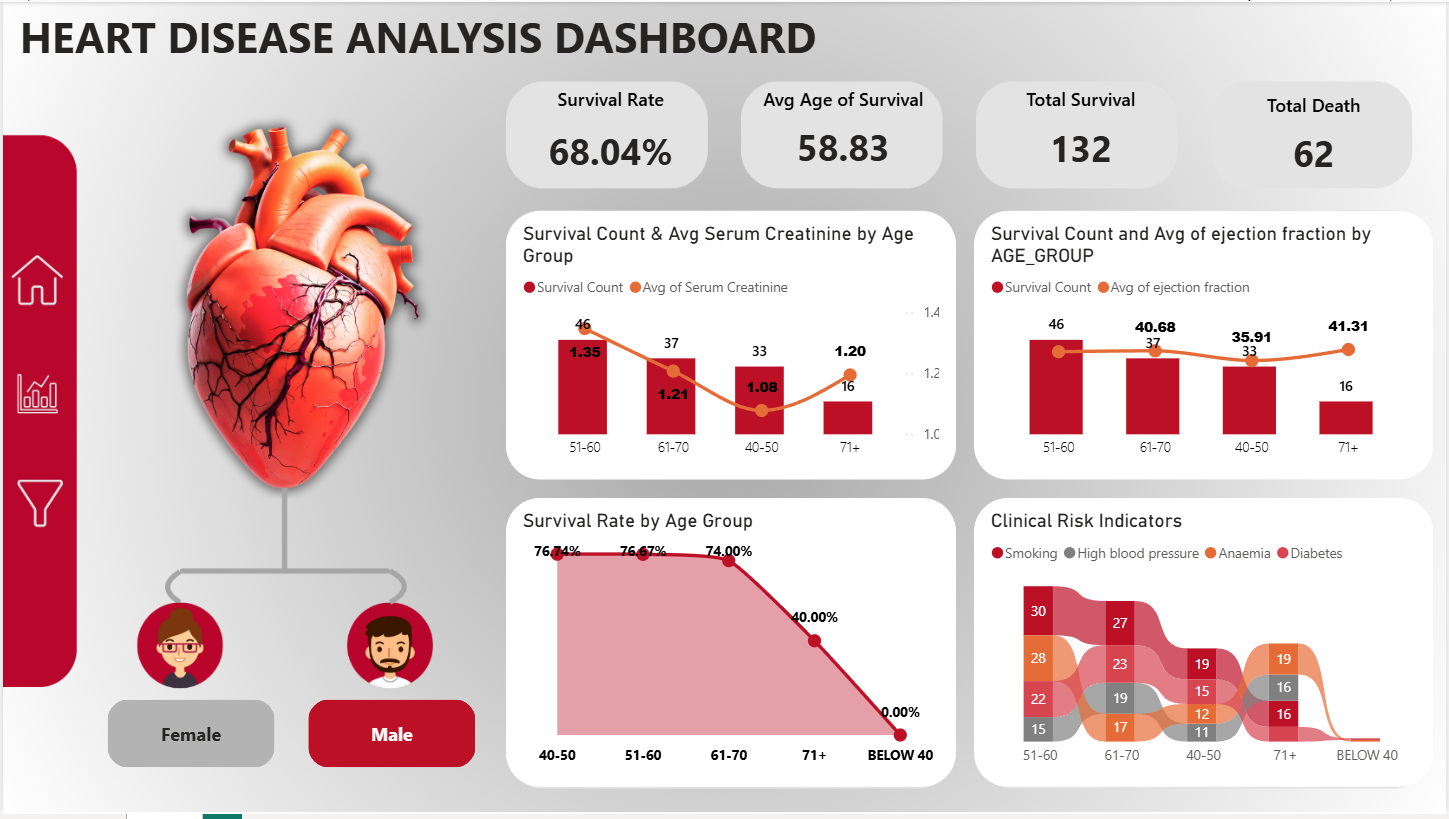

The dashboard page shown, as its layout file describes it:
{"tool":"powerbi","page":{"name":"Page 1","canvas":[1280,720],"ordinal":0},"visuals":[{"type":"textbox","box":[10,0,727,62],"z":0},{"type":"card","title":"Survival Rate","fields":{"Values":["heart_Disease_clinical_records_.Survival_Rate"]},"box":[453.5,75.6,171.3,97.8],"z":1000},{"type":"card","title":"Avg Age of Survival","fields":{"Values":["heart_Disease_clinical_records_.Average_Age_Survival"]},"box":[658.1,75.6,174.4,91.7],"z":2000},{"type":"card","title":"Total Survival","fields":{"Values":["heart_Disease_clinical_records_.Total_Surviour"]},"box":[867.8,75.6,175.4,92.7],"z":3000},{"type":"card","title":"Total Death","fields":{"Values":["heart_Disease_clinical_records_.Total_Death"]},"box":[1085,81,154,92],"z":4000},{"type":"lineClusteredColumnComboChart","title":"Survival Count & Avg Serum Creatinine by Age Group","fields":{"Category":["heart_Disease_clinical_records_.AGE_GROUP"],"Y":["CountNonNull(heart_Disease_clinical_records_.DEATH_EVENT)"],"Y2":["Avg(heart_Disease_clinical_records_.serum_creatinine)"]},"box":[446,185,399,238],"z":5000},{"type":"lineClusteredColumnComboChart","fields":{"Category":["heart_Disease_clinical_records_.AGE_GROUP"],"Y":["CountNonNull(heart_Disease_clinical_records_.DEATH_EVENT)"],"Y2":["Avg(heart_Disease_clinical_records_.ejection_fraction)"]},"box":[861,185,407,238],"z":6000},{"type":"lineChart","title":"Survival Rate by Age Group","fields":{"Category":["heart_Disease_clinical_records_.AGE_GROUP"],"Y":["heart_Disease_clinical_records_.Survival_Rate"]},"box":[446,440,399,256],"z":7000},{"type":"ribbonChart","title":"Clinical Risk Indicators","fields":{"Category":["heart_Disease_clinical_records_.AGE_GROUP"],"Y":["Sum(heart_Disease_clinical_records_.smoking)","Sum(heart_Disease_clinical_records_.high_blood_pressure)","Sum(heart_Disease_clinical_records_.anaemia)","Sum(heart_Disease_clinical_records_.diabetes)"]},"box":[861,440,407,256],"z":8000},{"type":"advancedSlicerVisual","fields":{"Values":["heart_Disease_clinical_records_.Gender"]},"box":[88,614,337,70],"z":9000}]}

Visuals, with their boxes in screenshot pixels (x1, y1, x2, y2), scaled from the page's 1280x720 canvas onto the 1449x819 screenshot:
textbox: {"left": 11, "top": 0, "right": 834, "bottom": 71}
"Survival Rate" card: {"left": 513, "top": 86, "right": 707, "bottom": 197}
"Avg Age of Survival" card: {"left": 745, "top": 86, "right": 942, "bottom": 190}
"Total Survival" card: {"left": 982, "top": 86, "right": 1181, "bottom": 191}
"Total Death" card: {"left": 1228, "top": 92, "right": 1403, "bottom": 197}
"Survival Count & Avg Serum Creatinine by Age Group" lineClusteredColumnComboChart: {"left": 505, "top": 210, "right": 957, "bottom": 481}
lineClusteredColumnComboChart - heart_Disease_clinical_records_.AGE_GROUP x CountNonNull(heart_Disease_clinical_records_.DEATH_EVENT): {"left": 975, "top": 210, "right": 1435, "bottom": 481}
"Survival Rate by Age Group" lineChart: {"left": 505, "top": 500, "right": 957, "bottom": 792}
"Clinical Risk Indicators" ribbonChart: {"left": 975, "top": 500, "right": 1435, "bottom": 792}
advancedSlicerVisual - heart_Disease_clinical_records_.Gender: {"left": 100, "top": 698, "right": 481, "bottom": 778}
